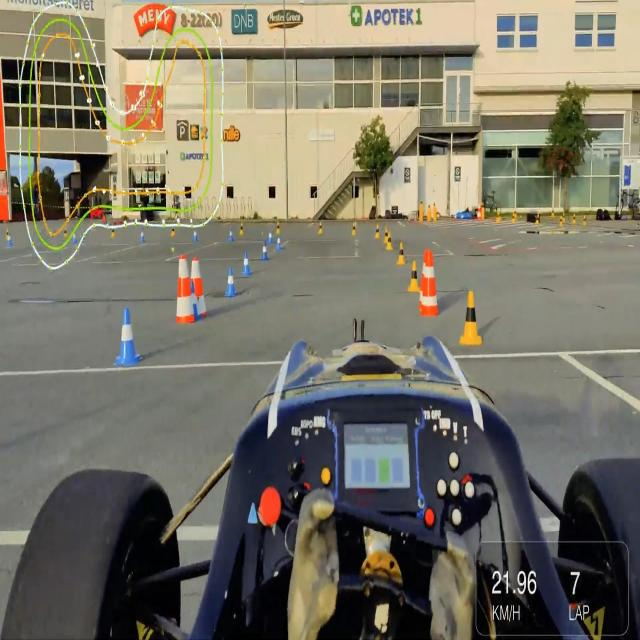blue_cone: (116, 308, 142, 366), (187, 280, 200, 319), (225, 267, 236, 297), (242, 251, 251, 276), (262, 240, 268, 261), (276, 234, 282, 249), (228, 227, 234, 241), (268, 230, 274, 244), (193, 228, 198, 242)
large_orange_cone: (175, 255, 196, 324), (187, 256, 207, 318), (421, 251, 438, 316)
yellow_cone: (461, 289, 484, 345), (408, 261, 421, 292), (397, 242, 406, 264), (386, 232, 393, 251), (375, 224, 381, 239), (384, 227, 389, 243)
